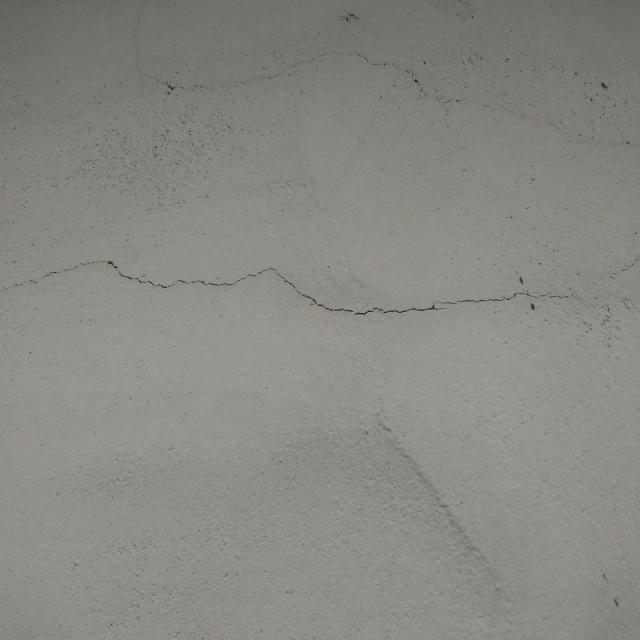GRIETA: (0, 260, 572, 315), (132, 8, 209, 90), (351, 51, 428, 96), (615, 258, 639, 272)
